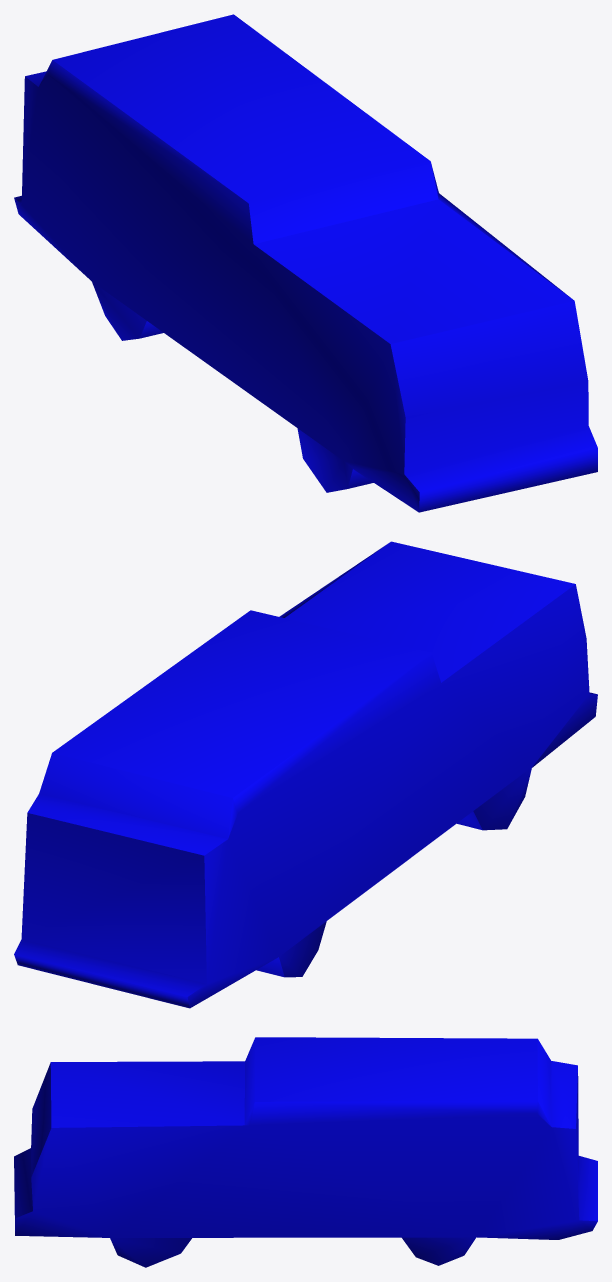
Rendered from Fire_Truck_Low.fbx.
3 views of the same model, one above another, from view 1: azimuth 30°, elevation 25°; view 2: azimuth 150°, elevation 25°; view 3: azimuth 270°, elevation 25° (orthographic). The views are drawn at different scales.
Visible parts, largest first — view 1: Fire_Truck_Low; view 2: Fire_Truck_Low; view 3: Fire_Truck_Low.
Boxes of the visible parts, box(x1,y1,x2,y2) form: Fire_Truck_Low: box(14, 14, 597, 512); Fire_Truck_Low: box(14, 541, 597, 1008); Fire_Truck_Low: box(14, 1037, 597, 1267).
Bounding box in the file's own units: 232 × 273 × 865.
